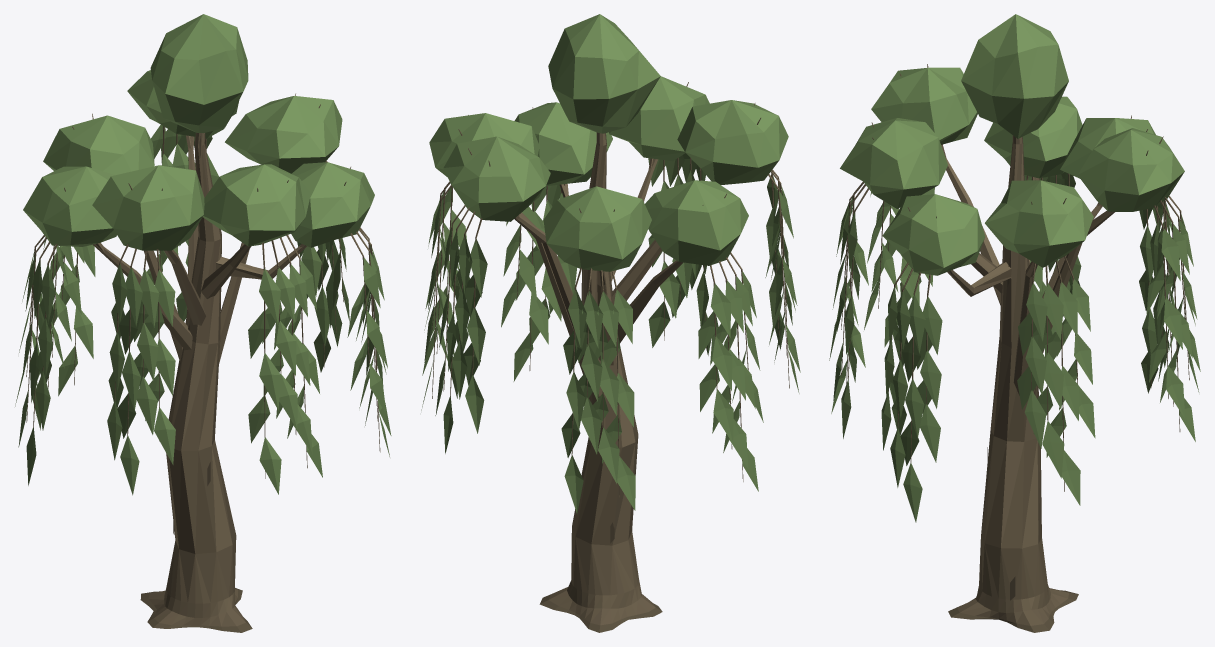
Rendered from willow_young.glb.
3 renders of one model, left to right at view 1: azimuth 30°, elevation 25°; view 2: azimuth 150°, elevation 25°; view 3: azimuth 270°, elevation 25°, orthographic.
Visible parts, largest first — view 1: leaves, branches; view 2: leaves, branches; view 3: leaves, branches.
Boxes of the visible parts, x1,y1,x2,y2 form: leaves: (15, 14, 391, 495); branches: (26, 93, 380, 632); leaves: (421, 14, 800, 514); branches: (432, 82, 789, 632); leaves: (829, 14, 1200, 522); branches: (841, 64, 1189, 632).
Size of the model in its own units: 1.15 by 2 by 1.13.
